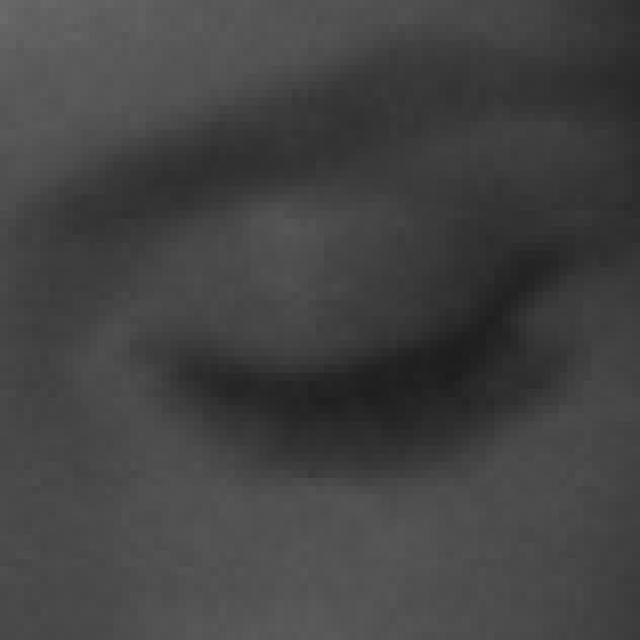Eyeclosed: (160, 196, 559, 554)
